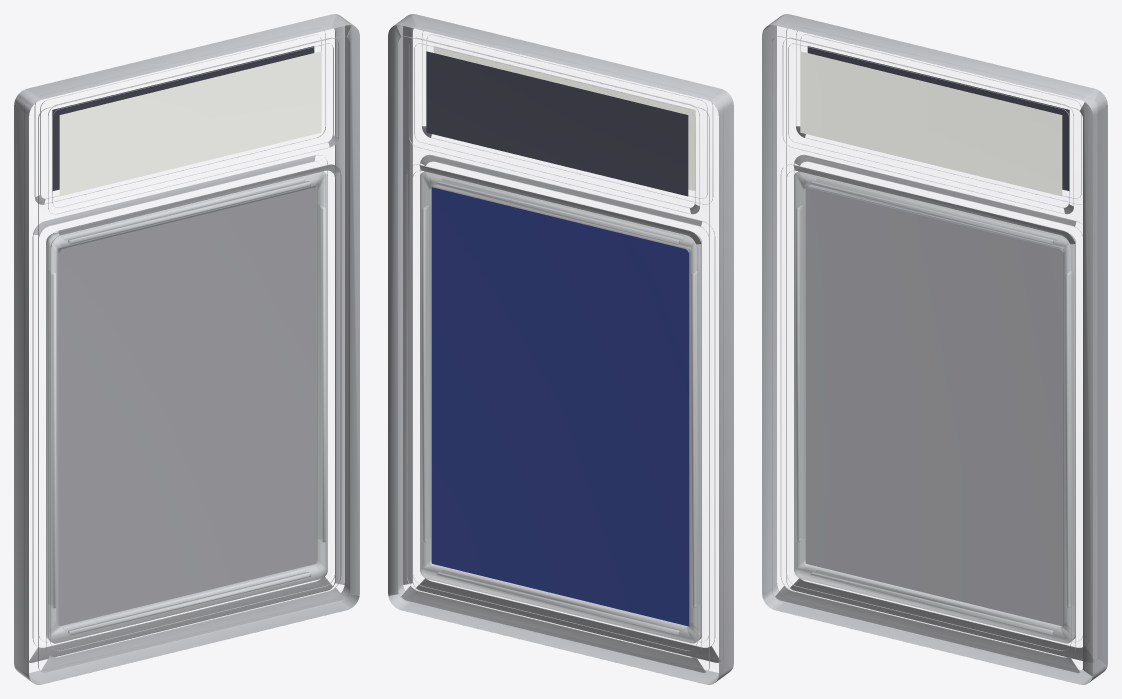
Rendered from slab.glb.
3 views of the same model, side by side, from view 1: azimuth 30°, elevation 25°; view 2: azimuth 150°, elevation 25°; view 3: azimuth 330°, elevation 25° (orthographic).
Visible parts, largest first — view 1: Carta, Slab, Etiqueta, FundaInterior, Guia, Guia.001, EtiquetaTrasera, Carril.002, Carril, Carril.001; view 2: CartaTrasera, Slab, EtiquetaTrasera, FundaInterior, Guia, Guia.001, Etiqueta, Carril.001, Carril.003, Carril; view 3: Carta, Slab, Etiqueta, FundaInterior, Guia, Guia.001, EtiquetaTrasera, Carril, Carril.002.
Part boxes in pixels (<box>): Carta: <box>58,187,316,626</box>; Slab: <box>14,14,359,684</box>; Etiqueta: <box>59,51,321,196</box>; FundaInterior: <box>46,171,327,643</box>; Guia: <box>49,271,56,608</box>; Guia.001: <box>318,205,325,542</box>; EtiquetaTrasera: <box>52,46,314,190</box>; Carril.002: <box>68,572,311,635</box>; Carril: <box>68,181,311,244</box>; Carril.001: <box>64,178,305,239</box>; CartaTrasera: <box>431,187,689,626</box>; Slab: <box>388,14,733,684</box>; EtiquetaTrasera: <box>426,51,688,196</box>; FundaInterior: <box>420,171,701,643</box>; Guia: <box>691,271,698,608</box>; Guia.001: <box>422,205,429,542</box>; Etiqueta: <box>433,46,695,190</box>; Carril.001: <box>436,181,679,244</box>; Carril.003: <box>436,572,679,635</box>; Carril: <box>442,178,683,239</box>; Carta: <box>805,187,1063,626</box>; Slab: <box>762,14,1107,684</box>; Etiqueta: <box>800,51,1062,196</box>; FundaInterior: <box>794,171,1075,643</box>; Guia: <box>796,205,803,542</box>; Guia.001: <box>1065,271,1072,608</box>; EtiquetaTrasera: <box>807,46,1069,190</box>; Carril: <box>810,181,1053,244</box>; Carril.002: <box>810,572,1053,635</box>.
Bounding box in the file's own units: 0.0808 × 0.1365 × 0.00635.
7 materials, 4 textured.
